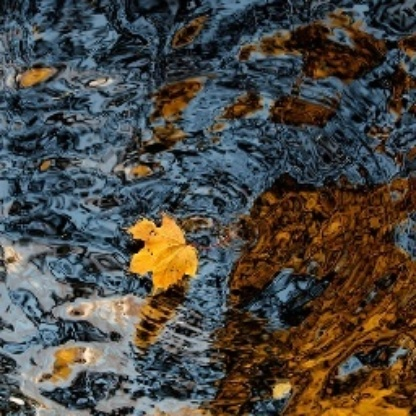leaf: (127, 212, 215, 293)
